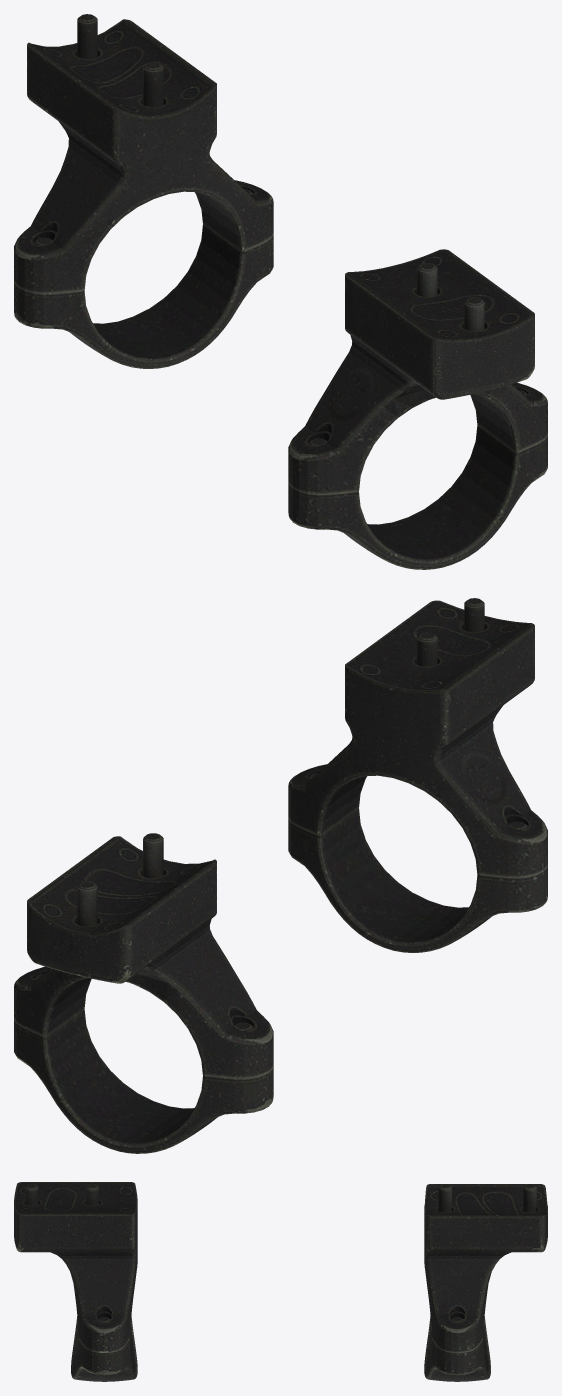
3 renders of one model, top to bottom at view 1: azimuth 30°, elevation 25°; view 2: azimuth 150°, elevation 25°; view 3: azimuth 270°, elevation 25°, orthographic. The views are drawn at different scales.
Visible parts, largest first — view 1: TW_5bfebc5e0db834001a6694e5_PZ_Import; view 2: TW_5bfebc5e0db834001a6694e5_PZ_Import; view 3: TW_5bfebc5e0db834001a6694e5_PZ_Import.
Boxes of the visible parts, x1,y1,x2,y2 form: TW_5bfebc5e0db834001a6694e5_PZ_Import: (14, 14, 547, 569); TW_5bfebc5e0db834001a6694e5_PZ_Import: (14, 598, 547, 1153); TW_5bfebc5e0db834001a6694e5_PZ_Import: (14, 1182, 547, 1381).
Size of the model in its own units: 0.028 by 0.0801 by 0.0315.
Materials: 1 (1 with a texture image).
